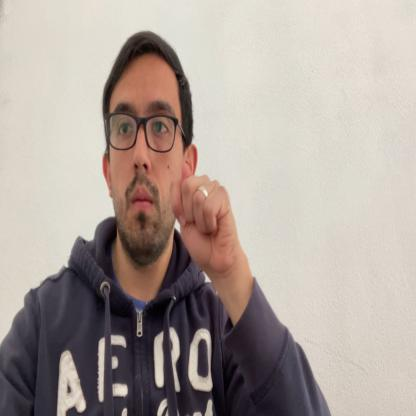T: (170, 174, 238, 272)
